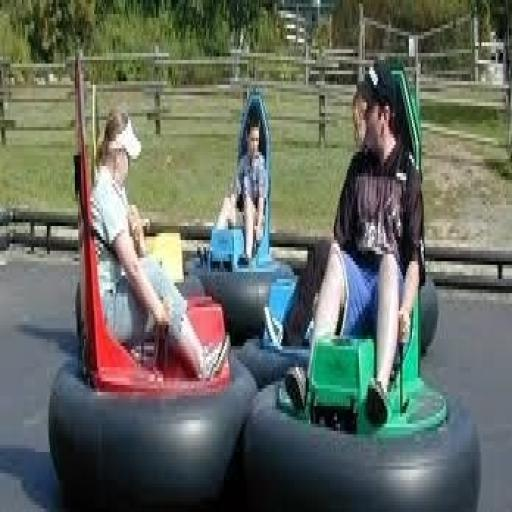sitting: (80, 56, 438, 424), (85, 102, 231, 385)
